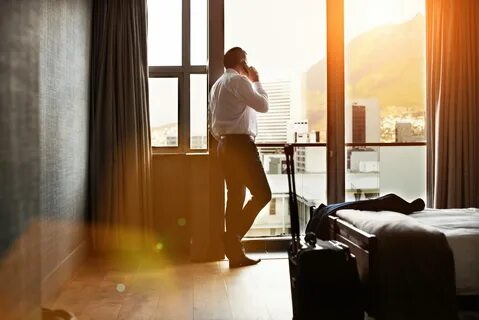awake: (208, 46, 273, 269)
